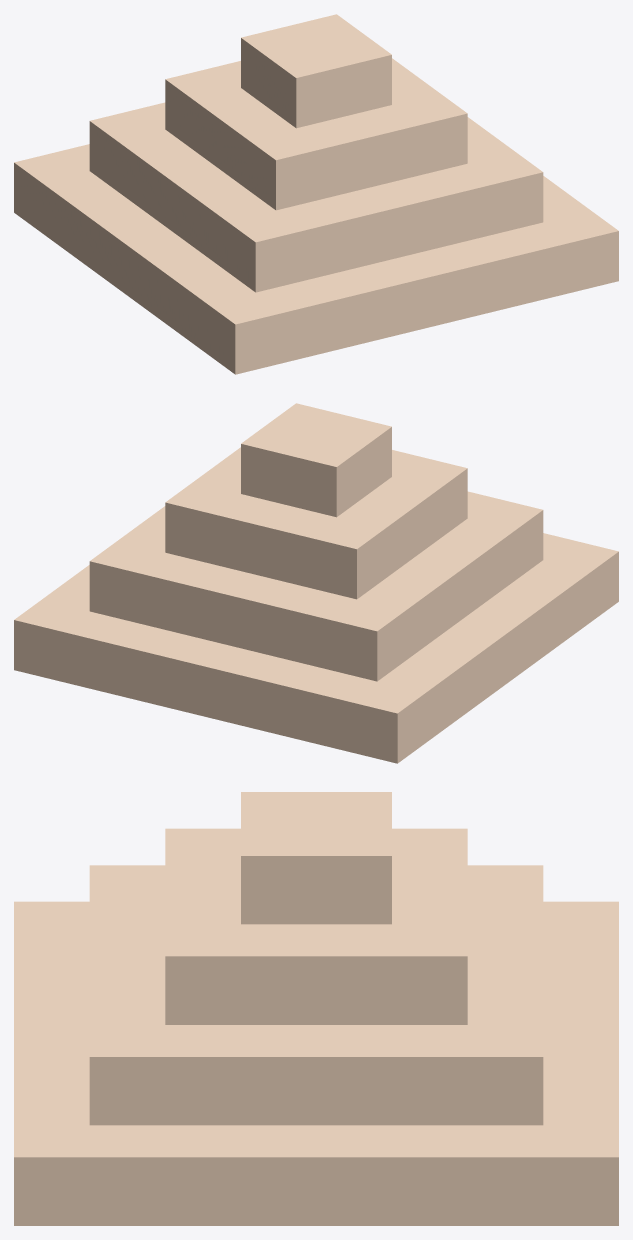
The model's file is Abstract_Castle_Block_0.5_Unit_Beige_Temple_Top_01.fbx.
The picture shows the model from 3 angles, top to bottom: view 1: azimuth 30°, elevation 25°; view 2: azimuth 150°, elevation 25°; view 3: azimuth 270°, elevation 25°; orthographic projection. The views are drawn at different scales.
Visible parts, largest first — view 1: Model; view 2: Model; view 3: Model.
Part boxes in pixels (<box>): Model: <box>14,14,618,374</box>; Model: <box>14,403,618,763</box>; Model: <box>14,792,618,1225</box>.
Size of the model in its own units: 1000 by 500 by 1000.
